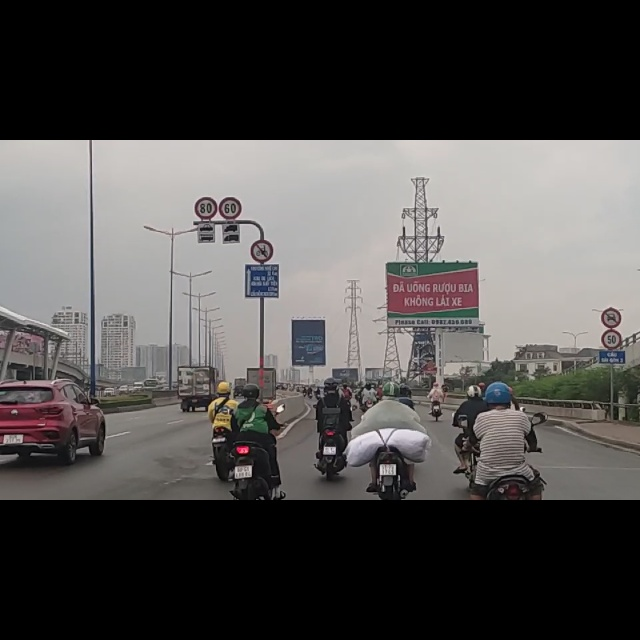bien_cam: (250, 178, 273, 219), (195, 103, 218, 143), (218, 103, 239, 142), (603, 300, 623, 337), (602, 338, 623, 373)
